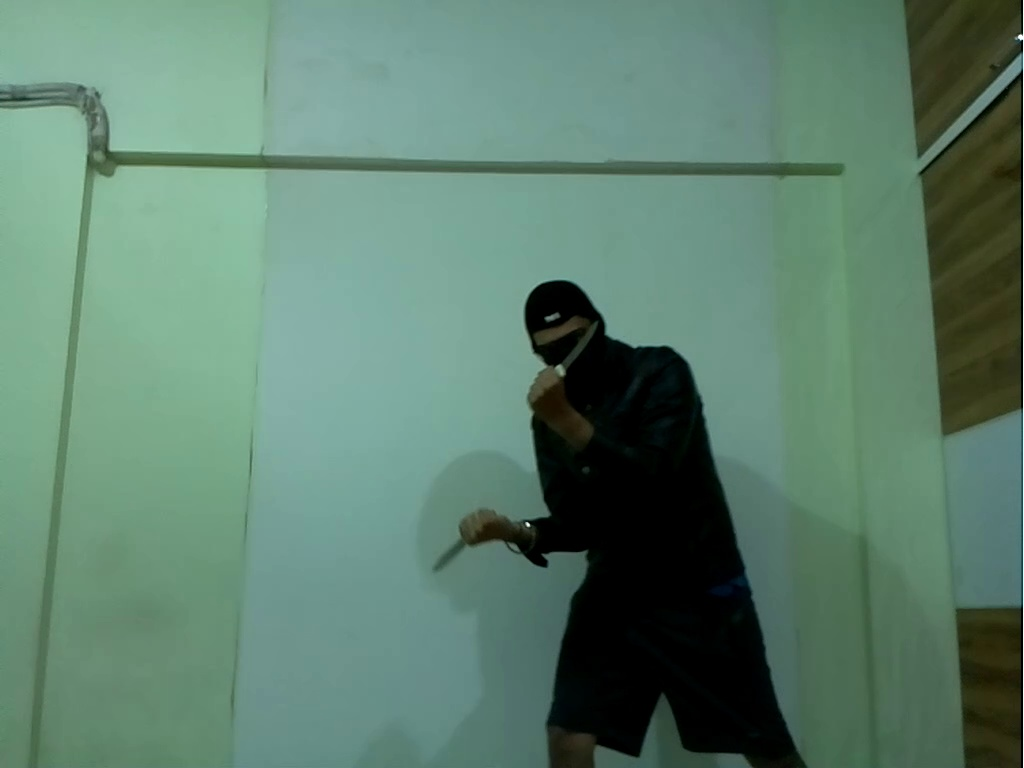knife: (556, 320, 603, 375)
